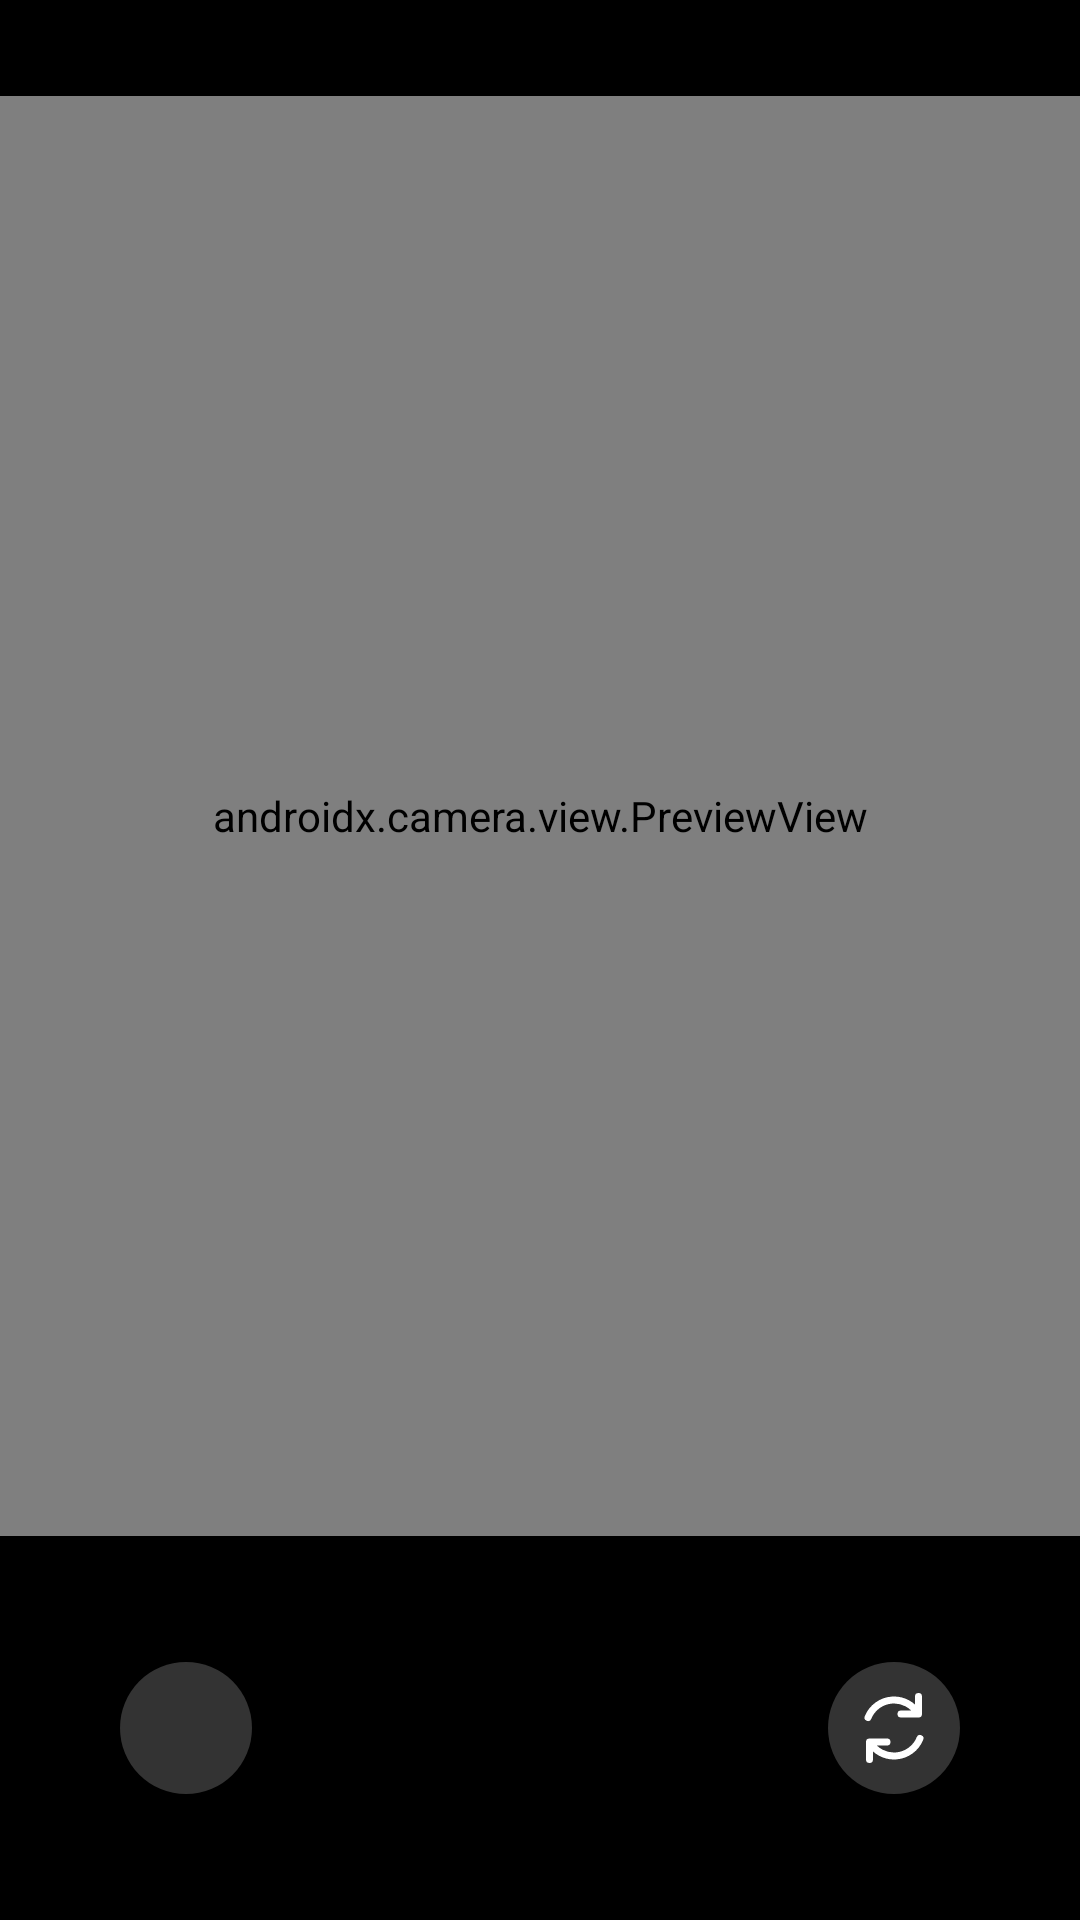

Where icons sit on this 1080px x 1920px app screen, as (x1, y1, x2, y2):
switch: (828, 1662, 960, 1794)
